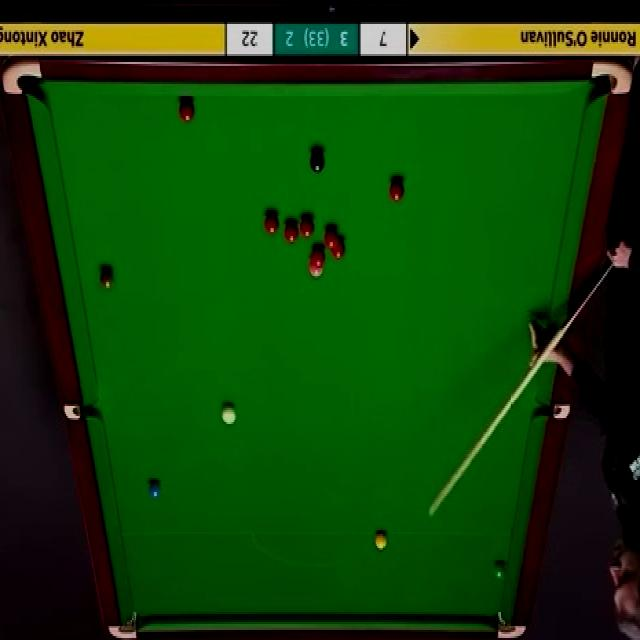pocket: (588, 58, 635, 97), (3, 58, 45, 97), (108, 608, 140, 640), (493, 611, 528, 640), (63, 403, 100, 422), (535, 404, 572, 418)
